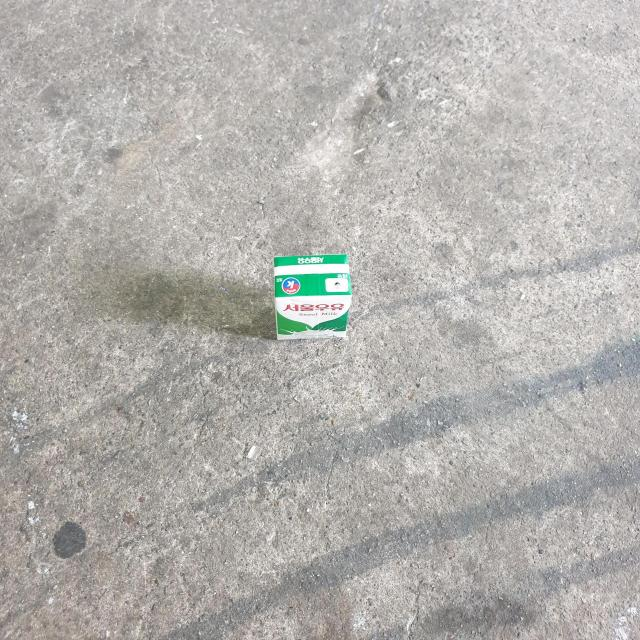paperpack: (274, 254, 352, 340)
